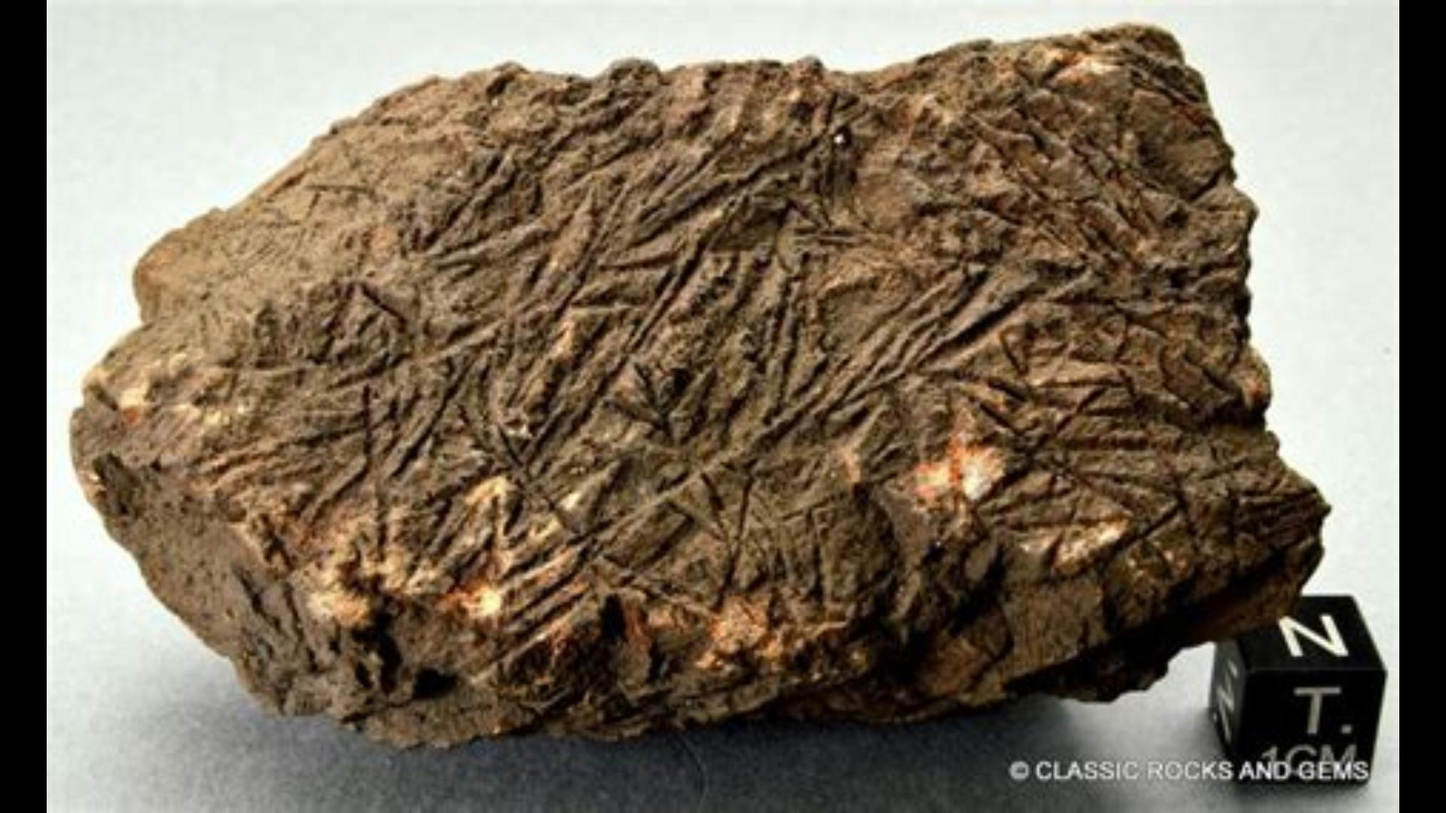rock: (72, 26, 1325, 742)
